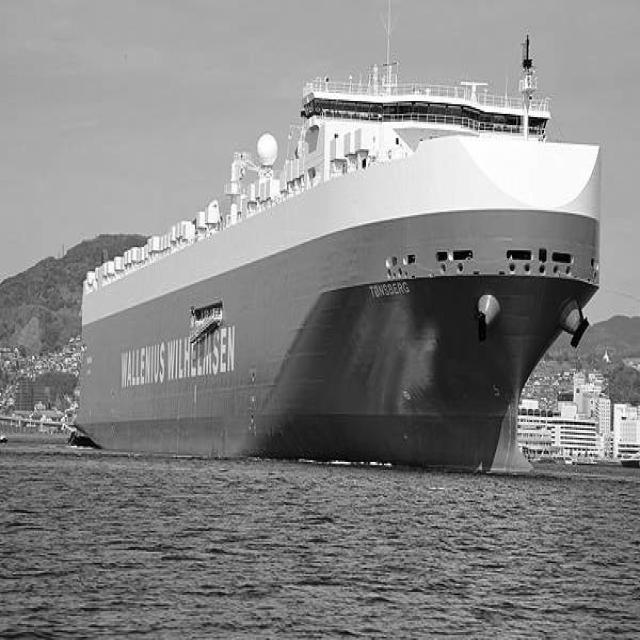Ro-Ro: (62, 0, 608, 494)
